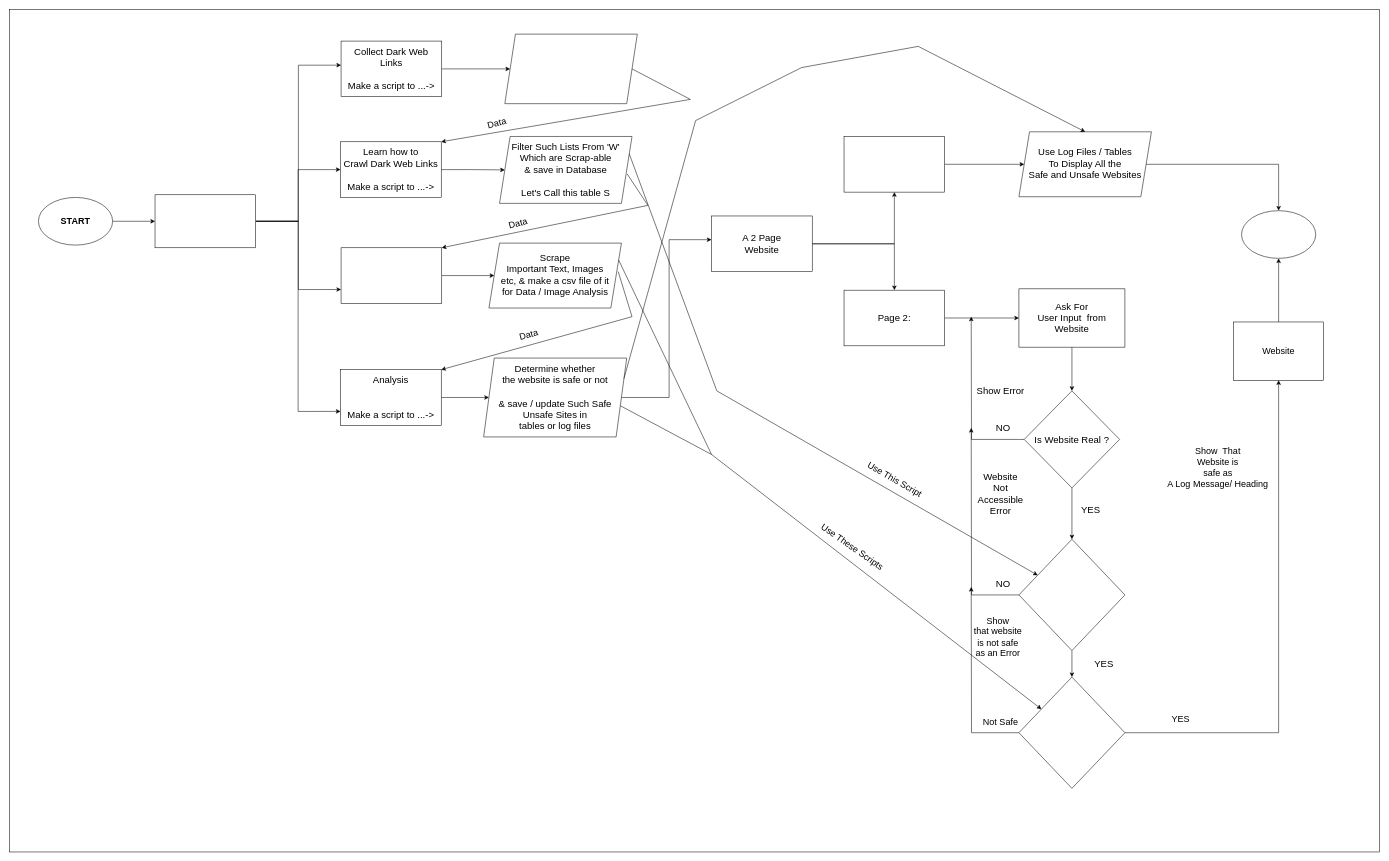
Image size: 1389x861. Some labels were removed from this diagram. The shapes that lost their labels are listed below. From the top down, each one's centre as x and y in pixels, then its label:
point (570, 69): Save Working Links In Database We'll call it table W
point (894, 164): Page 1:
point (205, 221): Complete individual Tasks from the list
point (1278, 234): END
point (391, 275): Scraping Make a script to ...->
point (1071, 595): Determine if website is Scrap-able or not Through Crawling
point (1071, 732): Determine if website is Safe or not
